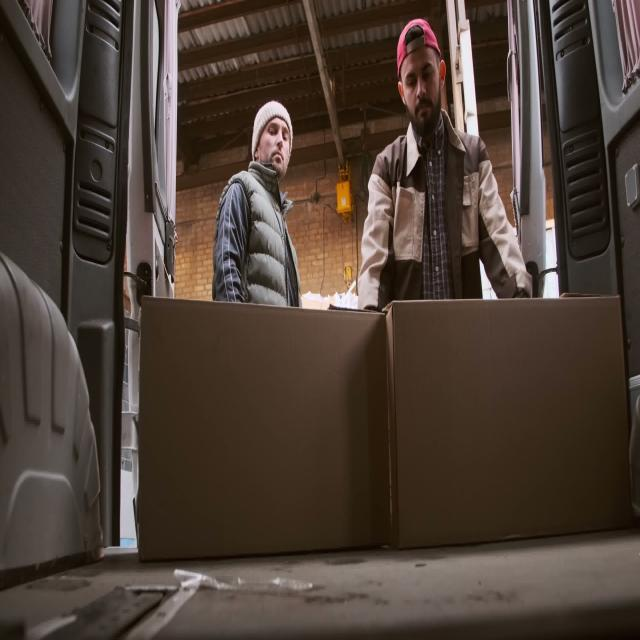counting-the-number-of-boxes: (139, 299, 389, 560), (384, 297, 630, 554)
